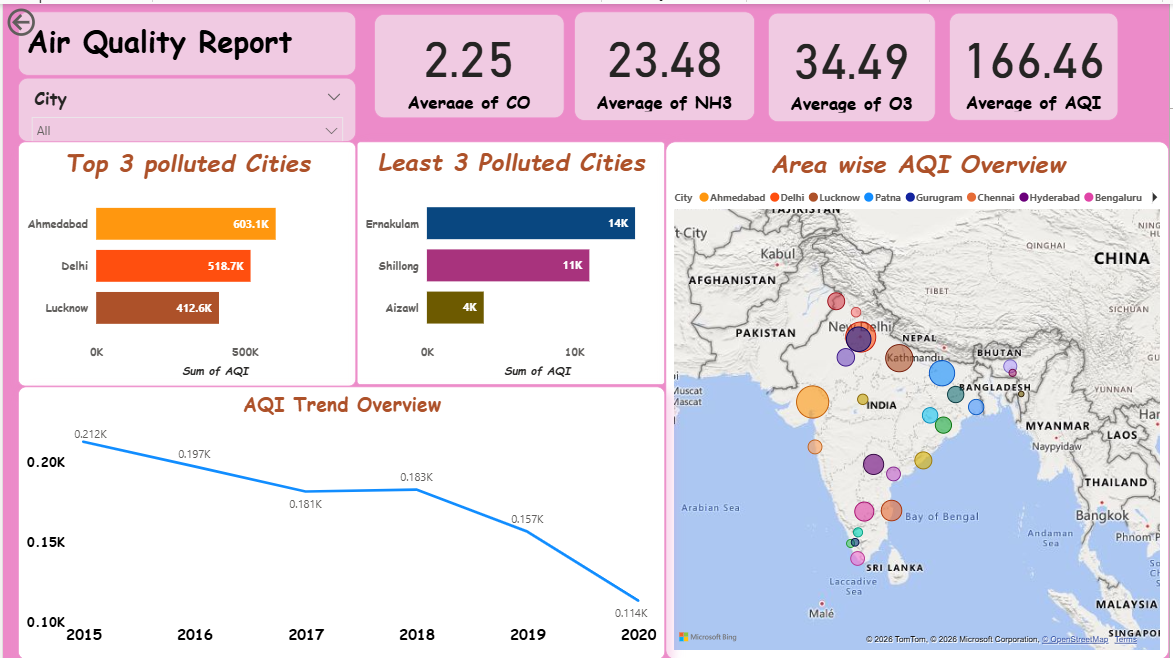

The dashboard page shown, as its layout file describes it:
{"tool":"powerbi","page":{"name":"Page 1","canvas":[1280,720],"ordinal":0},"visuals":[{"type":"clusteredBarChart","title":"Top 3 polluted Cities","fields":{"Y":["Sum(city_day csv.AQI)"],"Category":["city_day csv.City"]},"box":[17.1,151.4,371.4,268.6],"z":0},{"type":"clusteredBarChart","title":"Least 3 Polluted Cities","fields":{"Category":["city_day csv.City"],"Y":["Sum(city_day csv.AQI)"]},"box":[388.6,151.4,338.6,267.1],"z":1000},{"type":"map","title":"Area wise AQI Overview","fields":{"Category":["city_day csv.City"],"Series":["city_day csv.City"],"Size":["Sum(city_day csv.AQI)"]},"box":[727.1,151.4,552.9,568.6],"z":2000},{"type":"lineChart","title":"AQI Trend Overview","fields":{"Category":["city_day csv.Date.Variation.Date Hierarchy.Year"],"Y":["Avg(city_day csv.AQI)"]},"box":[17.1,420,710,300],"z":3000},{"type":"card","fields":{"Values":["Avg(city_day csv.CO)"]},"box":[407.1,11.4,208.6,114.3],"z":4000},{"type":"card","fields":{"Values":["Avg(city_day csv.NH3)"]},"box":[627.1,8.6,198.6,120],"z":5000},{"type":"card","fields":{"Values":["Avg(city_day csv.O3)"]},"box":[840,10,184.3,120],"z":6000},{"type":"card","fields":{"Values":["Avg(city_day csv.AQI)"]},"box":[1038.6,10,185.7,118.6],"z":7000},{"type":"textbox","box":[17.1,8.6,371.4,70],"z":8000},{"type":"slicer","fields":{"Values":["city_day csv.City"]},"box":[17.1,81.4,371.4,70],"z":9000},{"type":"actionButton","box":[0,0,100,40],"z":10000}]}

Visuals, with their boxes in screenshot pixels (x1, y1, x2, y2), scaled from the page's 1280x720 canvas onto the 1173x658 screenshot:
"Top 3 polluted Cities" clusteredBarChart: detection(16, 138, 356, 384)
"Least 3 Polluted Cities" clusteredBarChart: detection(356, 138, 666, 382)
"Area wise AQI Overview" map: detection(666, 138, 1172, 657)
"AQI Trend Overview" lineChart: detection(16, 384, 666, 657)
card - Avg(city_day csv.CO): detection(373, 10, 564, 115)
card - Avg(city_day csv.NH3): detection(575, 8, 757, 118)
card - Avg(city_day csv.O3): detection(770, 9, 939, 119)
card - Avg(city_day csv.AQI): detection(952, 9, 1122, 118)
textbox: detection(16, 8, 356, 72)
slicer - city_day csv.City: detection(16, 74, 356, 138)
actionButton: detection(0, 0, 92, 37)
